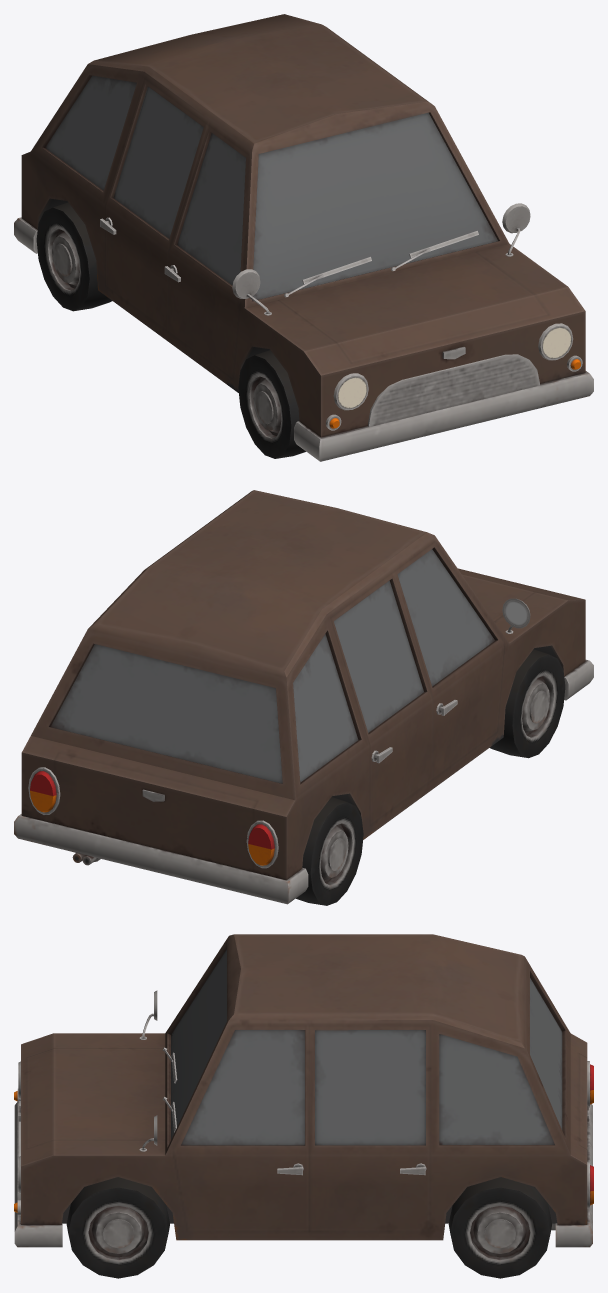
The model's file is SM_Props_Car_02.glb.
3 views of the same model, one above another, from view 1: azimuth 30°, elevation 25°; view 2: azimuth 150°, elevation 25°; view 3: azimuth 270°, elevation 25° (orthographic). The views are drawn at different scales.
Parts seen in each view (by area): view 1: SM_Props_Car_01; view 2: SM_Props_Car_01; view 3: SM_Props_Car_01.
Part boxes in pixels (x1,y1,x2,y2): SM_Props_Car_01: (14,14,593,461); SM_Props_Car_01: (14,490,593,905); SM_Props_Car_01: (14,934,593,1278).
Bounding box in the file's own units: 1.85 × 1.56 × 3.3.
1 material, 1 textured.
